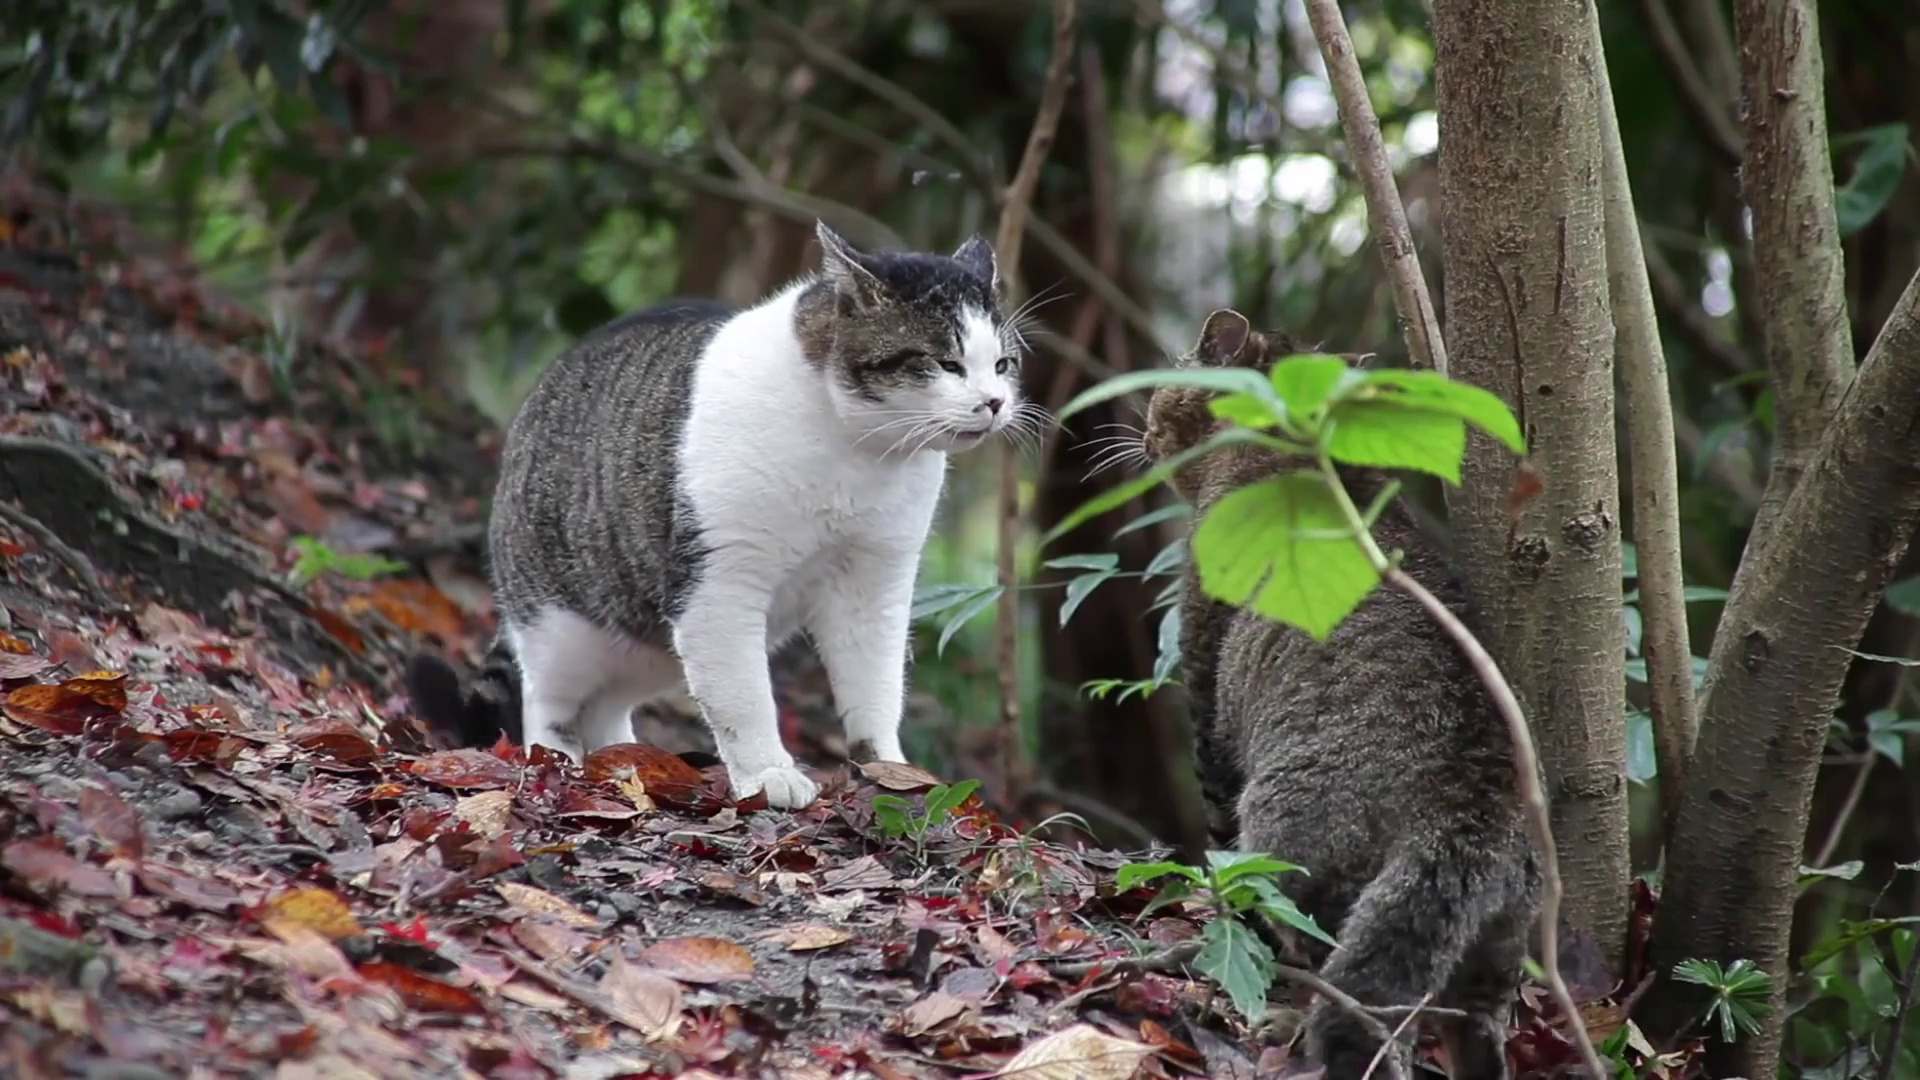black-white: (401, 216, 1022, 810)
pure black: (1139, 305, 1542, 1080)
